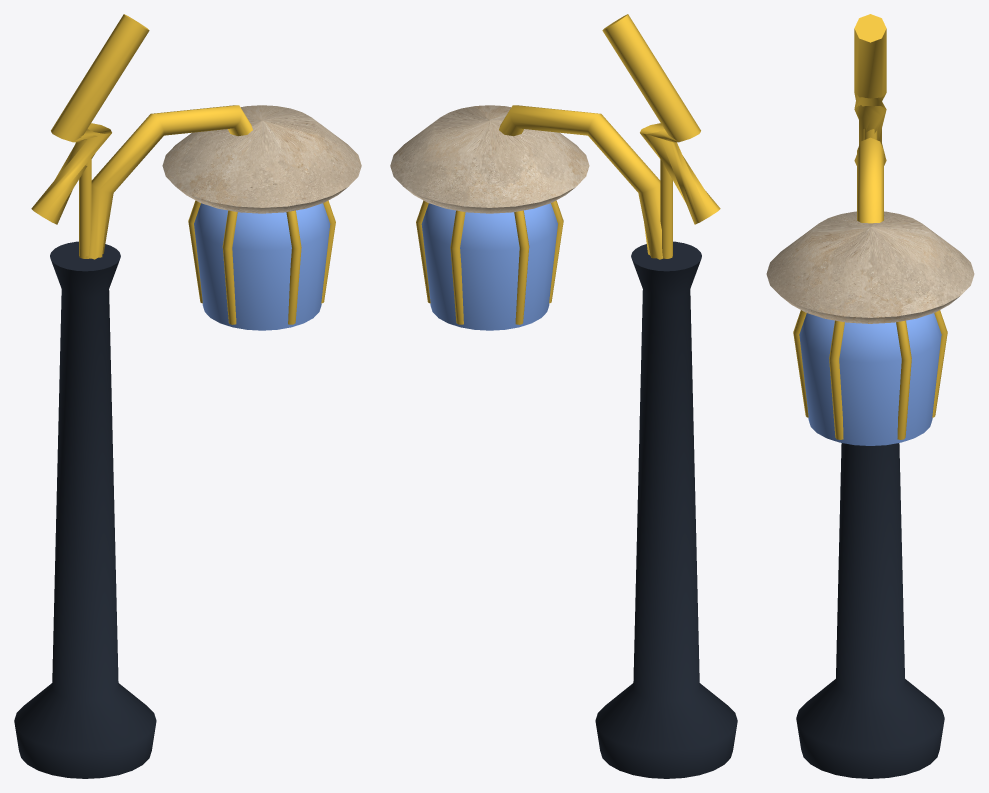
The model's file is 09_Farola_Curva.obj.
3 views of the same model, side by side, from view 1: azimuth 30°, elevation 25°; view 2: azimuth 150°, elevation 25°; view 3: azimuth 270°, elevation 25° (orthographic). The views are drawn at different scales.
Parts seen in each view (by area): view 1: Poste_y_brazo_curvo, Farol_Pivote_Z, Insignia; view 2: Poste_y_brazo_curvo, Farol_Pivote_Z, Insignia; view 3: Farol_Pivote_Z, Poste_y_brazo_curvo, Insignia.
Boxes of the visible parts, <box> form: Poste_y_brazo_curvo: <box>14,105,252,778</box>; Farol_Pivote_Z: <box>162,105,361,330</box>; Insignia: <box>31,14,149,258</box>; Poste_y_brazo_curvo: <box>499,105,737,778</box>; Farol_Pivote_Z: <box>390,105,589,330</box>; Insignia: <box>602,14,720,258</box>; Farol_Pivote_Z: <box>766,211,974,445</box>; Poste_y_brazo_curvo: <box>796,137,944,778</box>; Insignia: <box>854,14,886,165</box>.
Size of the model in its own units: 1.58 by 3.37 by 0.84.
